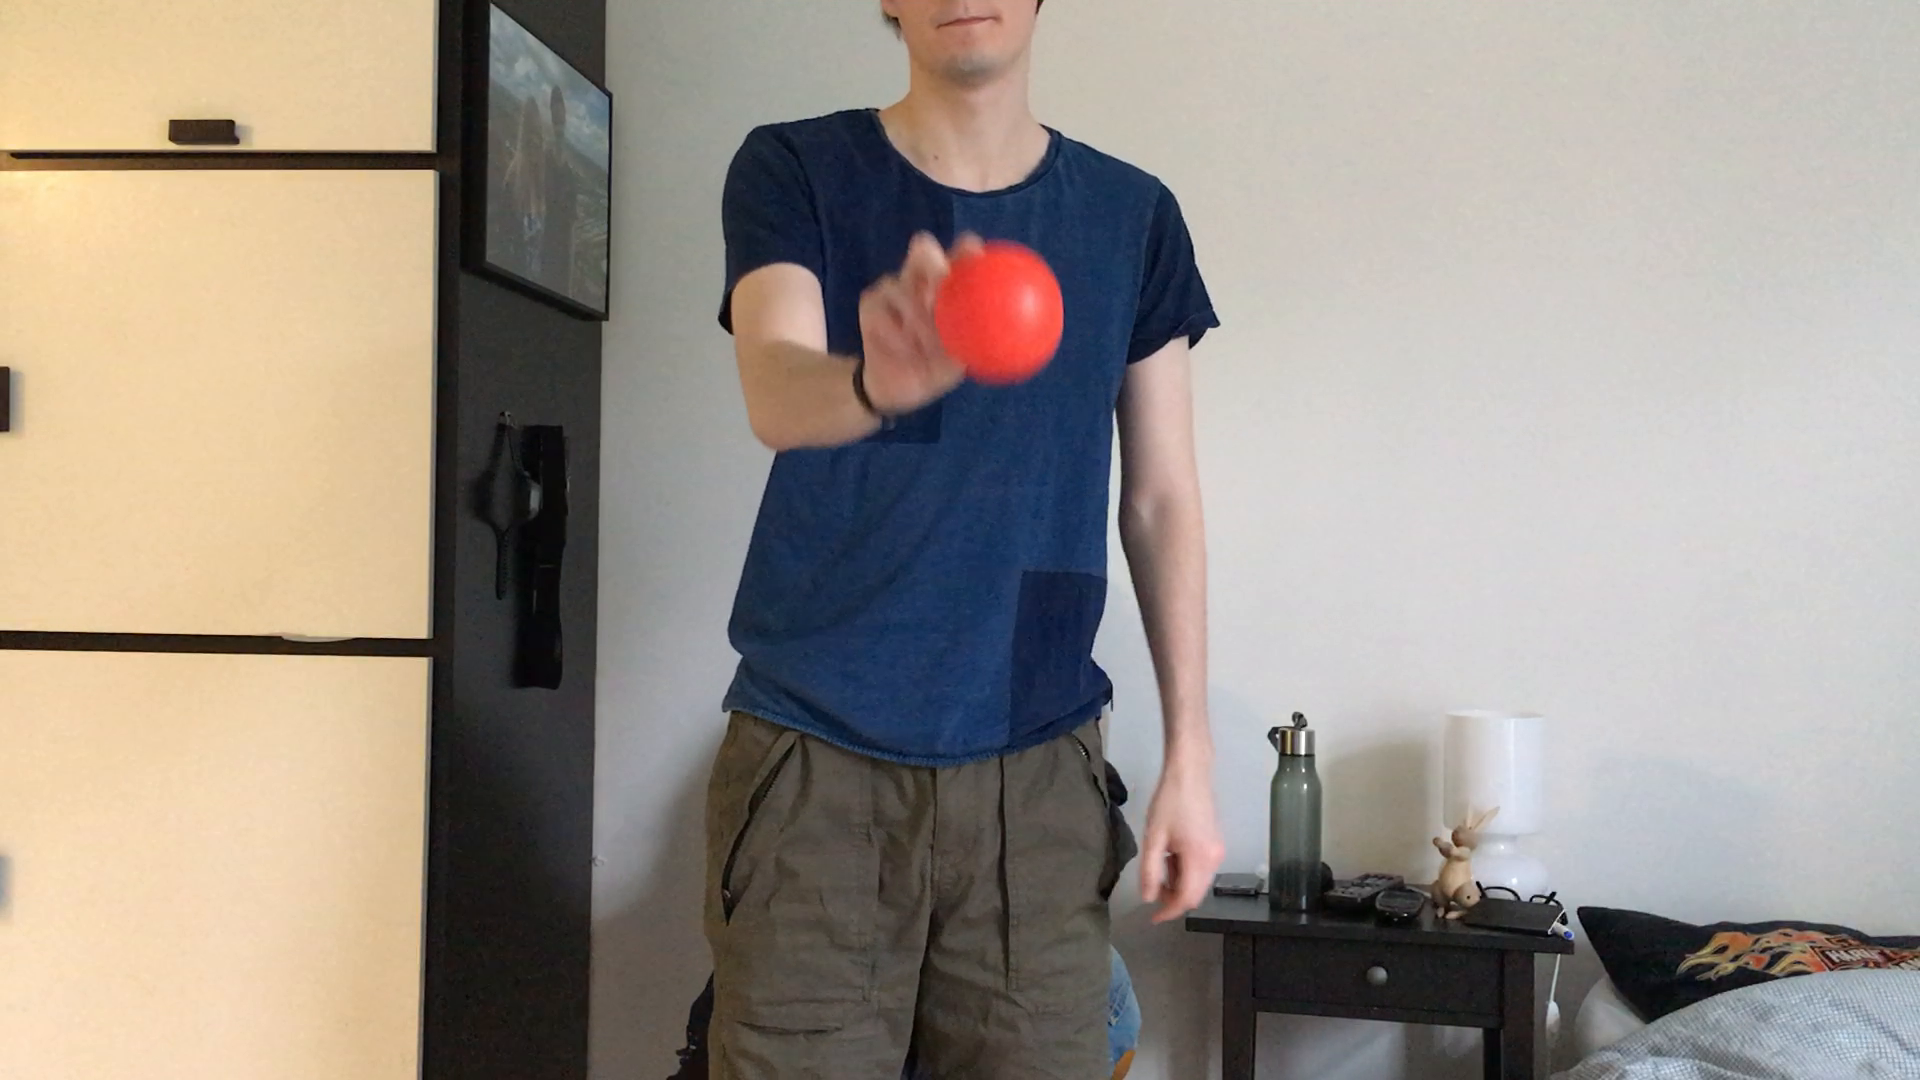Ball: (945, 241, 1054, 385)
